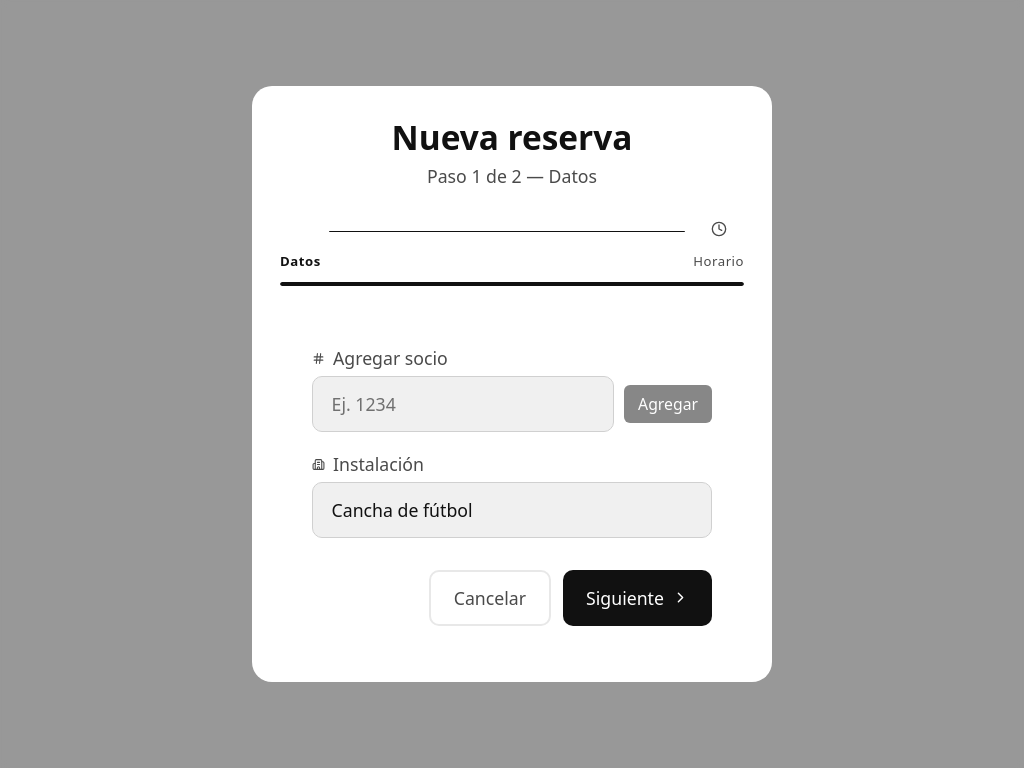
Test: CreateReservaForm › no avanza al paso 2 si no se agregó ningún socio
What coordinates should you click on to do the following:
click the button "Siguiente"
I would click on:
 (638, 598)
Its box is [563,570,712,626].
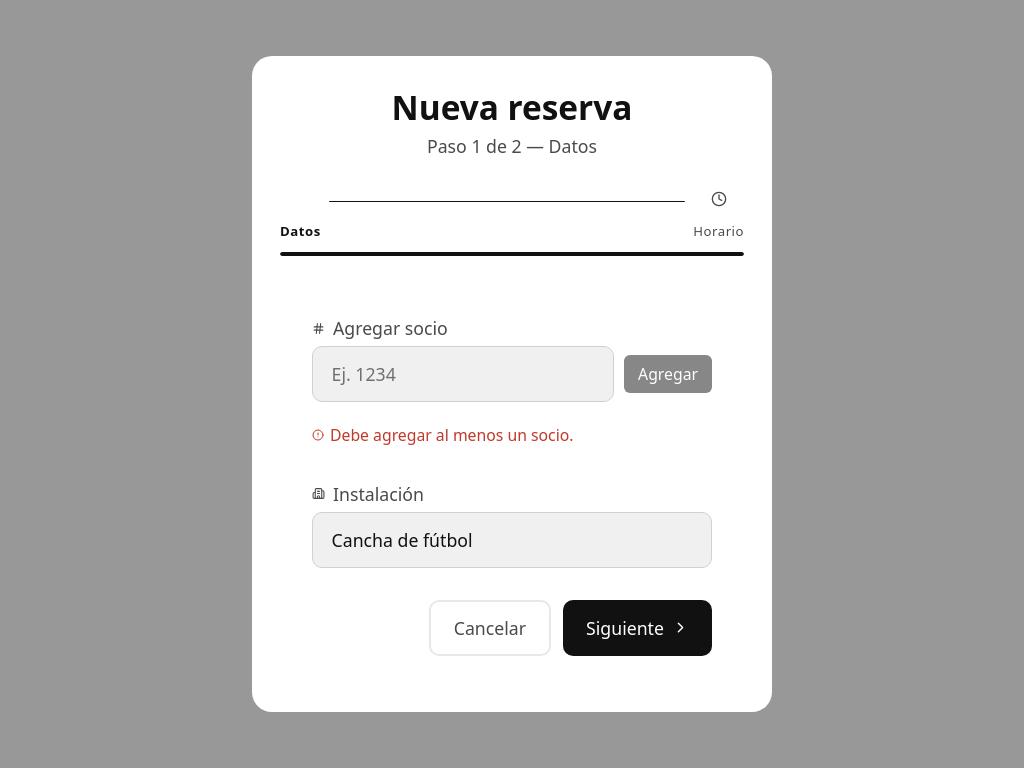
Expected: the text "Paso 1 de 2 — Datos" is shown, [427,134,597,158]
Result: the text "Debe agregar al menos un socio." is shown at [312,424,574,446]
